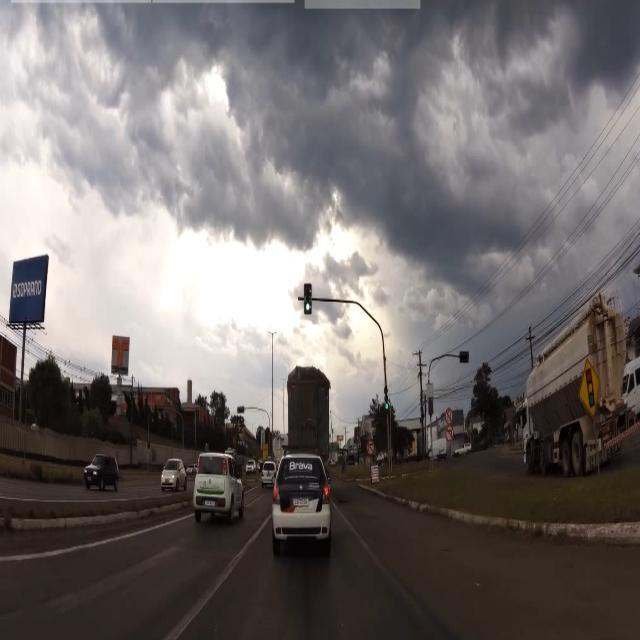A-14: (580, 360, 600, 424)
